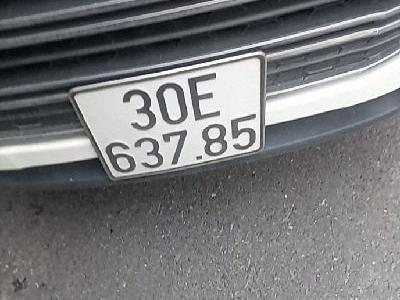car: (71, 52, 267, 180)
